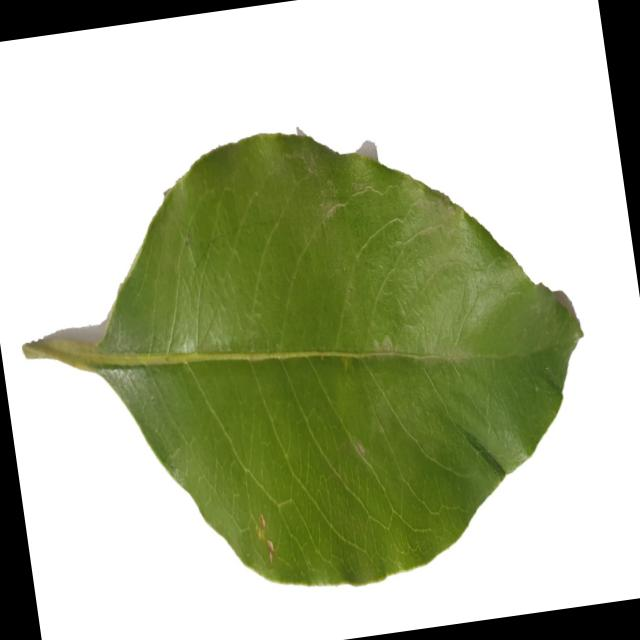Medicinal-Sandalwood: (0, 90, 613, 629)
